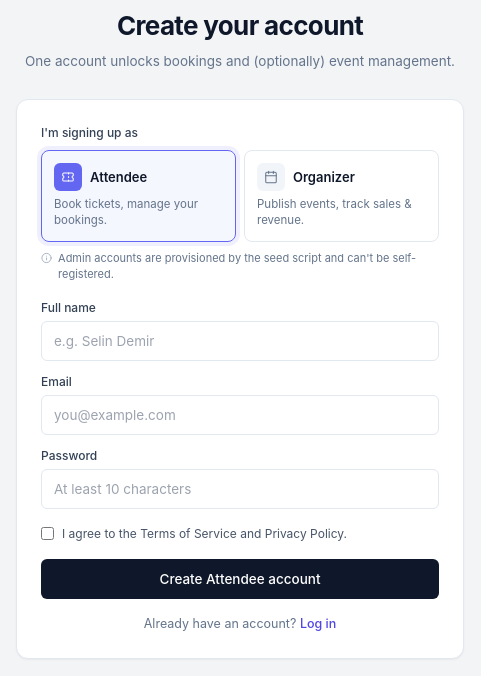
Test case: RegisterPage › swaps the CTA when the organizer role is chosen
# The role tile button accessible name combines the label and its description.
Click the button "Organizer Publish events, track sales & revenue.": (342, 196) [244, 150, 439, 242]
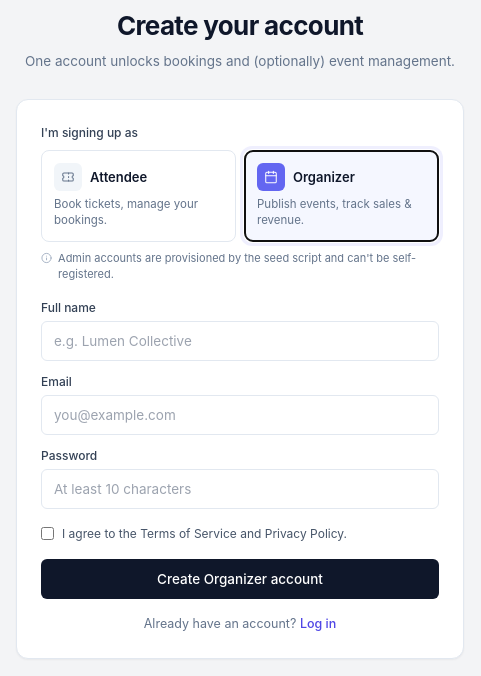
Now the button "Create Organizer account" is shown, box [41, 559, 439, 599]
